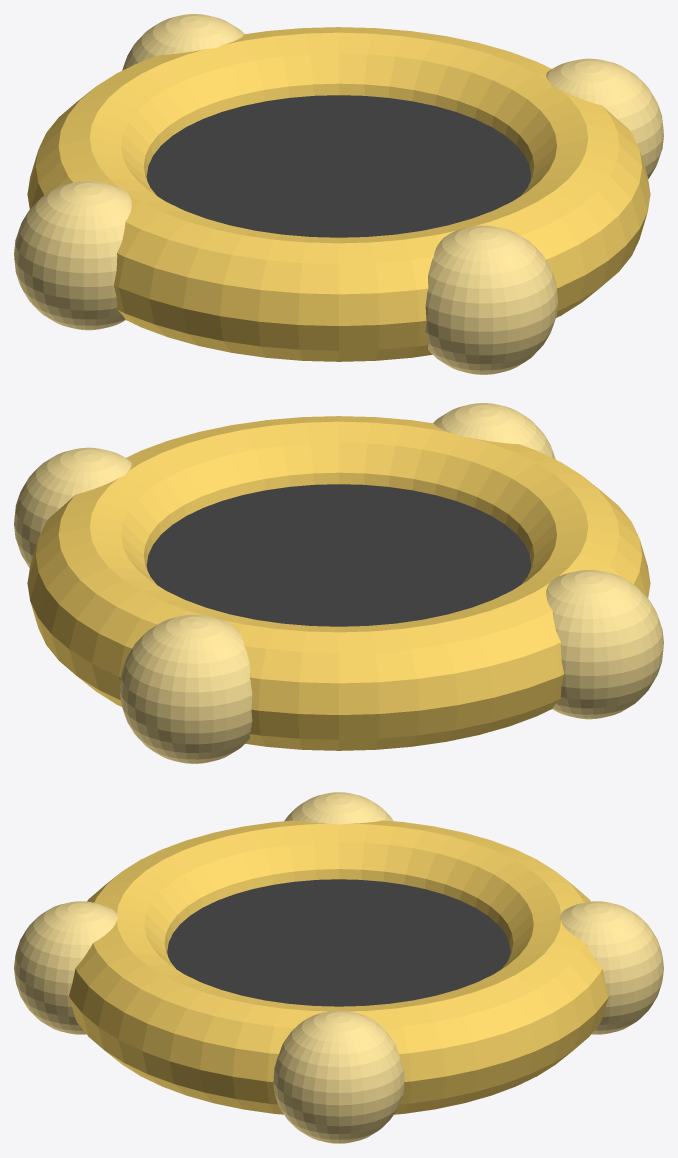
The model's file is ItemStand.fbx.
3 renders of one model, top to bottom at view 1: azimuth 30°, elevation 25°; view 2: azimuth 150°, elevation 25°; view 3: azimuth 270°, elevation 25°, orthographic. The views are drawn at different scales.
Parts seen in each view (by area): view 1: トーラス; view 2: トーラス; view 3: トーラス.
Boxes of the visible parts, left/top/right/bottom form: トーラス: left=14, top=14, right=663, bottom=374; トーラス: left=14, top=403, right=663, bottom=763; トーラス: left=14, top=792, right=663, bottom=1143.
Size of the model in its own units: 292 by 60 by 292.
